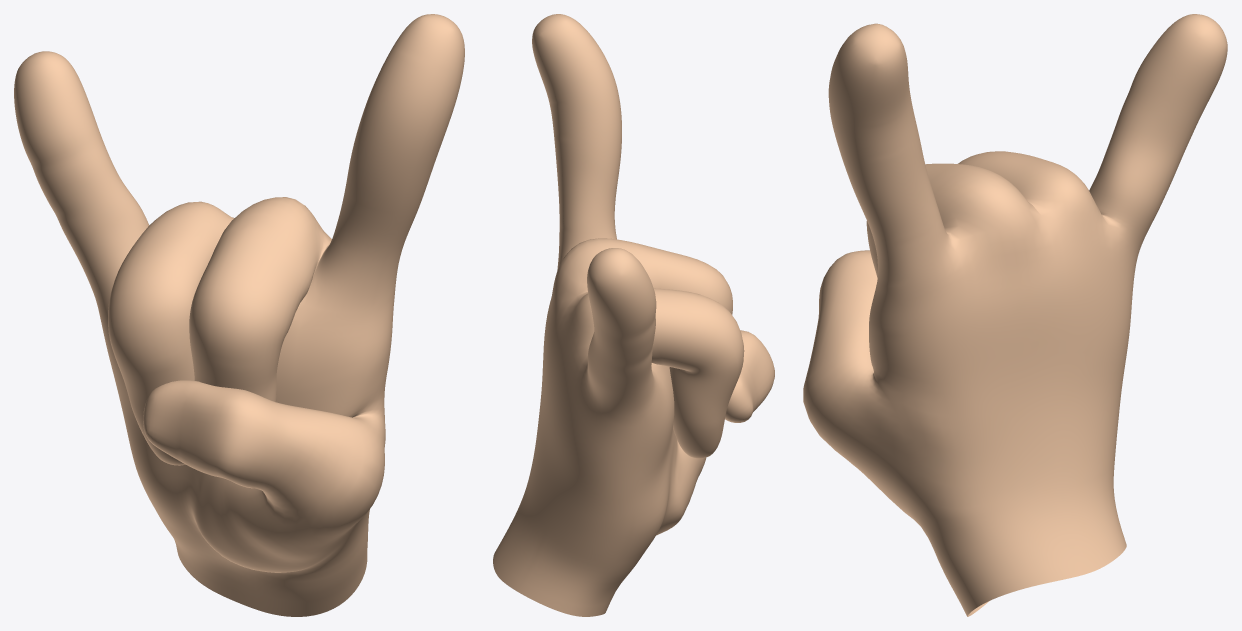
The model's file is hand.glb.
3 views of the same model, side by side, from view 1: azimuth 30°, elevation 25°; view 2: azimuth 150°, elevation 25°; view 3: azimuth 270°, elevation 25° (orthographic). The views are drawn at different scales.
Parts seen in each view (by area): view 1: Object_3; view 2: Object_3; view 3: Object_3.
Part boxes in pixels (box(x1,y1,x2,y2)): Object_3: box(14, 14, 464, 616); Object_3: box(493, 14, 774, 616); Object_3: box(803, 14, 1227, 616).
Size of the model in its own units: 1.32 by 2.67 by 1.65.
